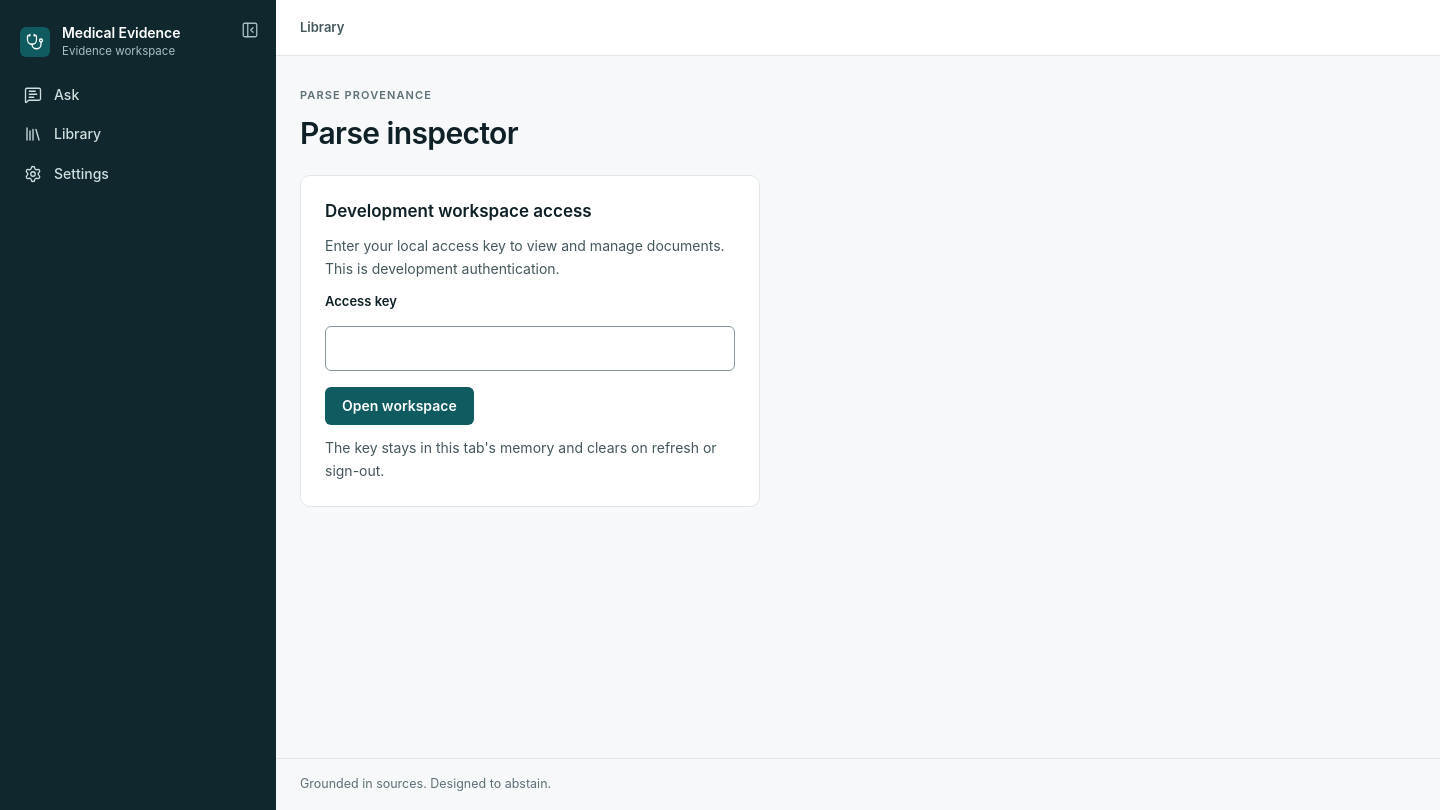
Scenario: M2 parse inspector › renders the real table grid with its header cells and caption
Step 1. Type "local-test-key" into the password field labelled "Access key" → (530,349), box [325,326,735,371]
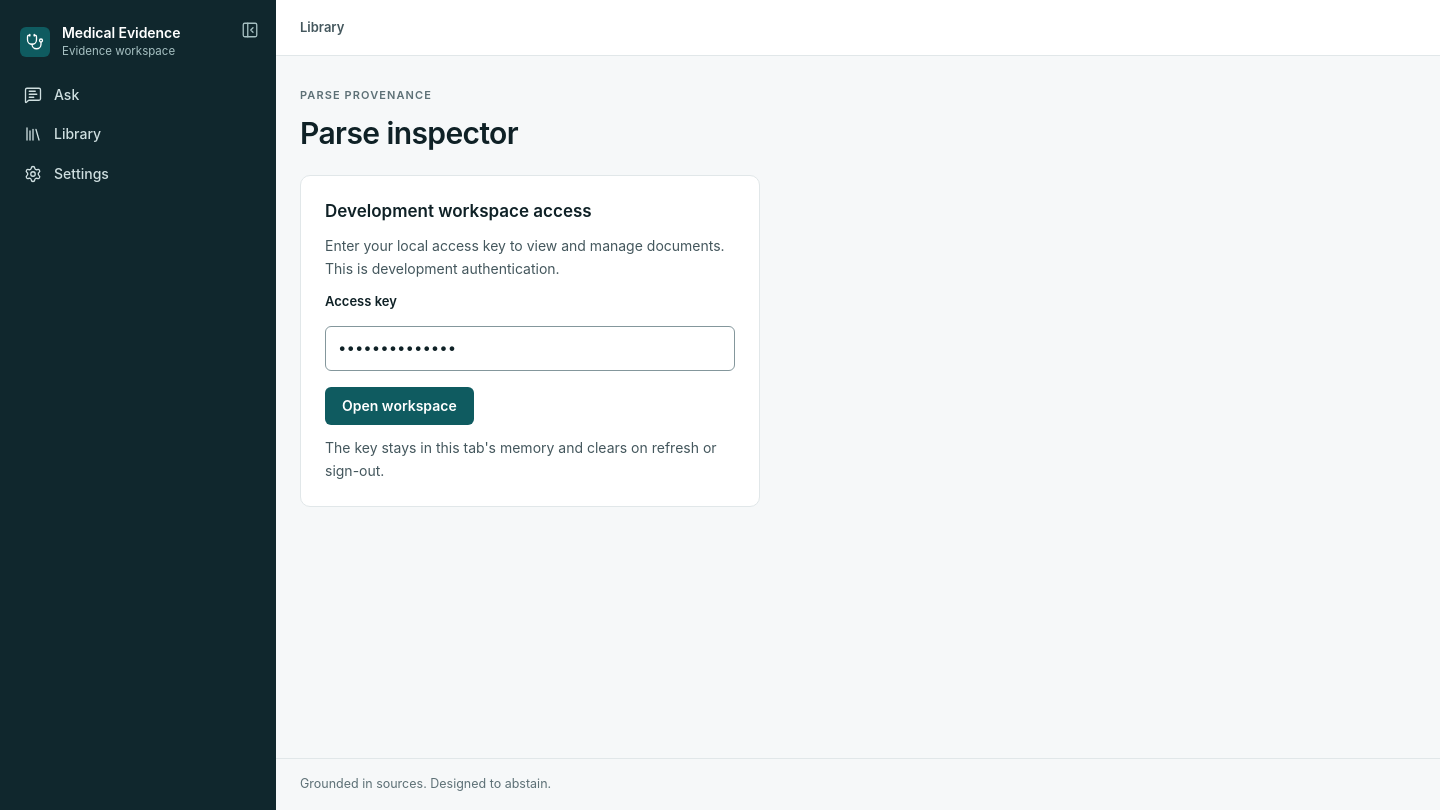
Step 2. Click the button "Open workspace" → (399,406), box [325,387,474,425]
(page scrolled)
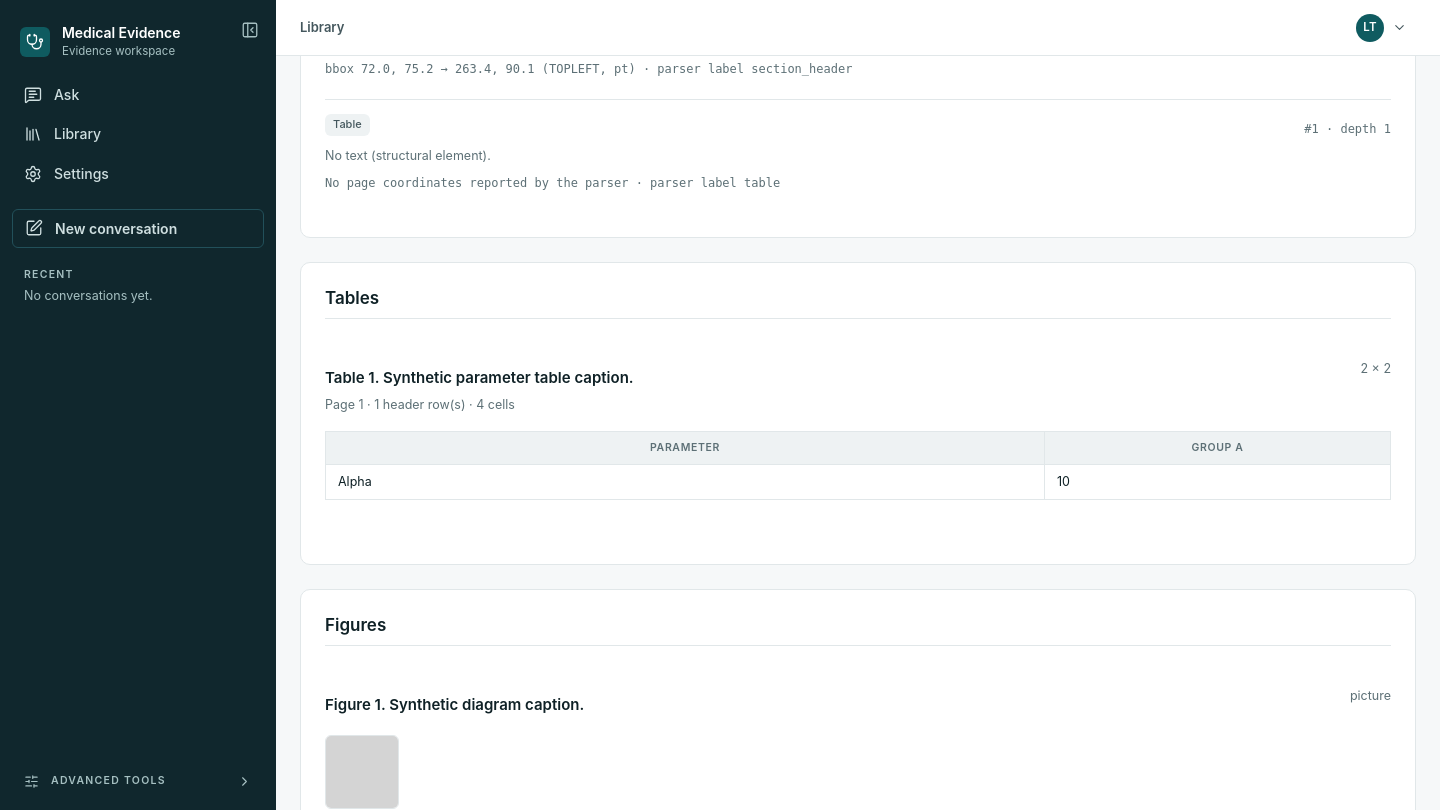
expect the button named "Account and workspace" is shown: met, box [1351,8,1416,46]
expect the column heading "Parameter" is shown: met, box [326,431,1044,464]
expect the column heading "Group A" is shown: met, box [1044,431,1390,464]
